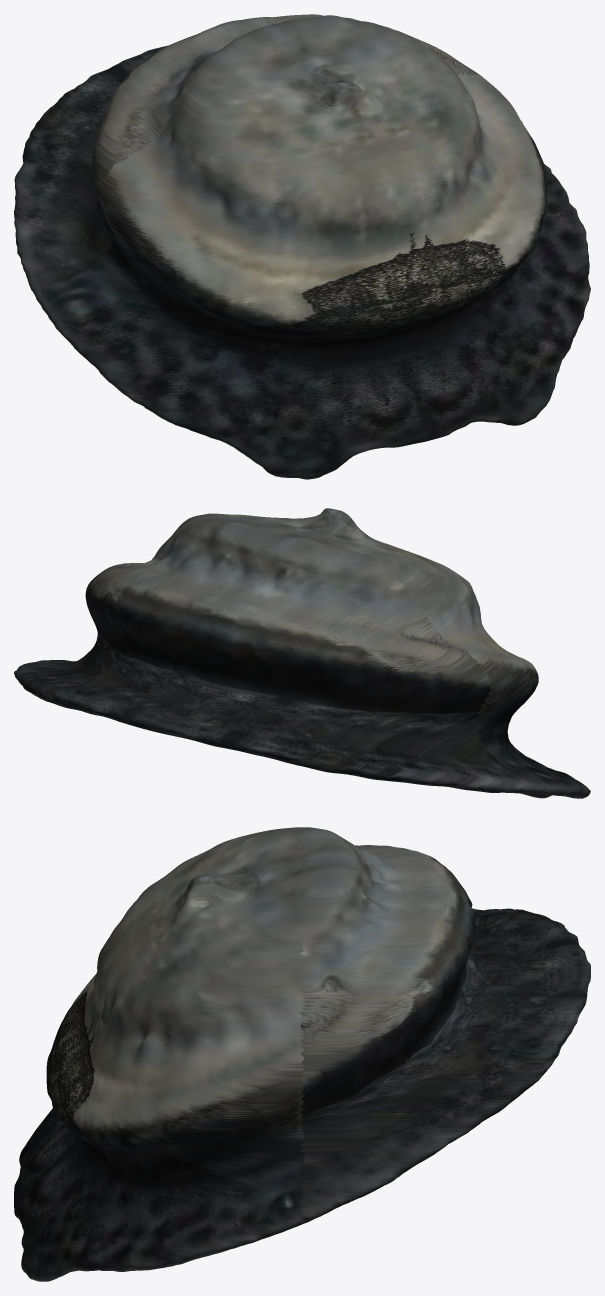
File: kfl-2152.glb
3 renders of one model, top to bottom at view 1: azimuth 30°, elevation 25°; view 2: azimuth 150°, elevation 25°; view 3: azimuth 270°, elevation 25°, orthographic. The views are drawn at different scales.
Visible parts, largest first — view 1: geometry_0; view 2: geometry_0; view 3: geometry_0.
Part boxes in pixels (left/top/right/bottom): geometry_0: left=14, top=14, right=590, bottom=479; geometry_0: left=14, top=508, right=590, bottom=798; geometry_0: left=14, top=827, right=590, bottom=1281.
Size of the model in its own units: 0.9835 by 0.5926 by 0.8543.
Materials: 1 (1 with a texture image).
